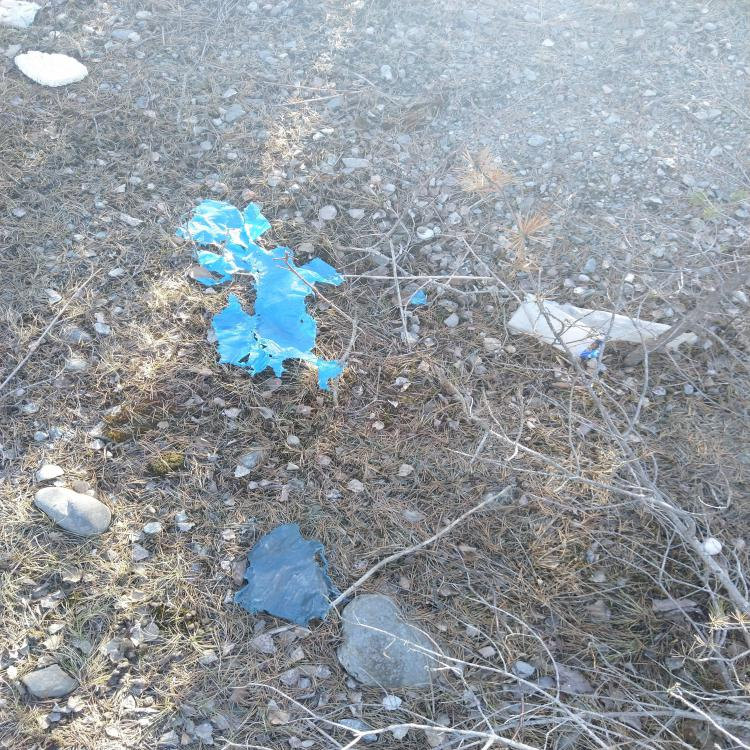Plastic film: (174, 200, 346, 389), (234, 523, 342, 627), (506, 294, 672, 358), (666, 333, 696, 349), (581, 342, 602, 358), (412, 290, 427, 304)
Styrofoam piece: (14, 51, 88, 87)
